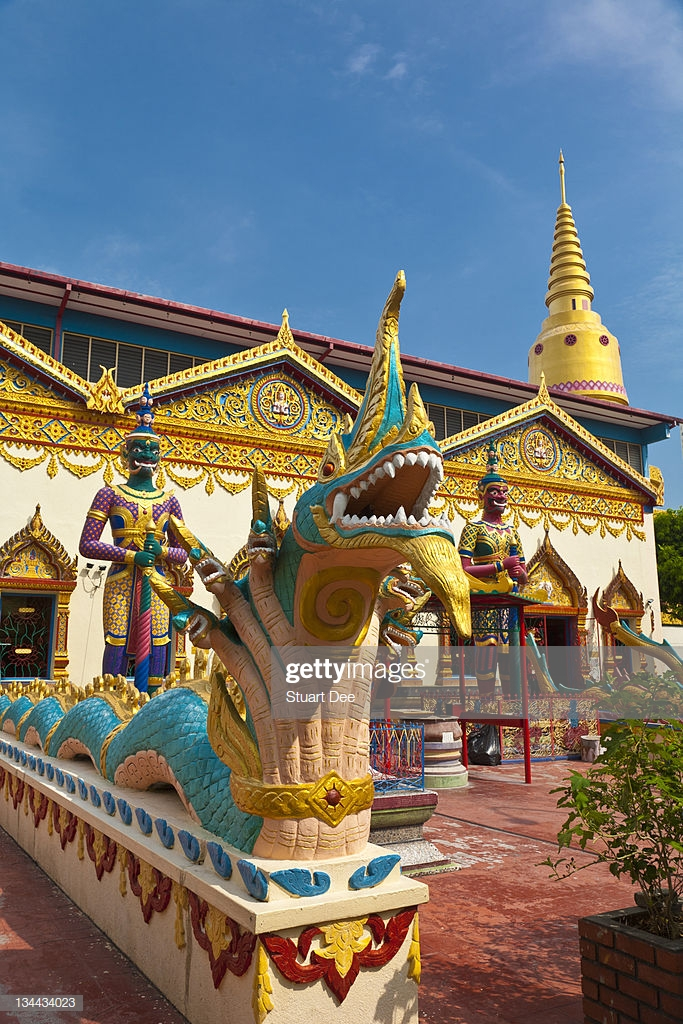Buddhist Temple: (11, 205, 648, 721)
